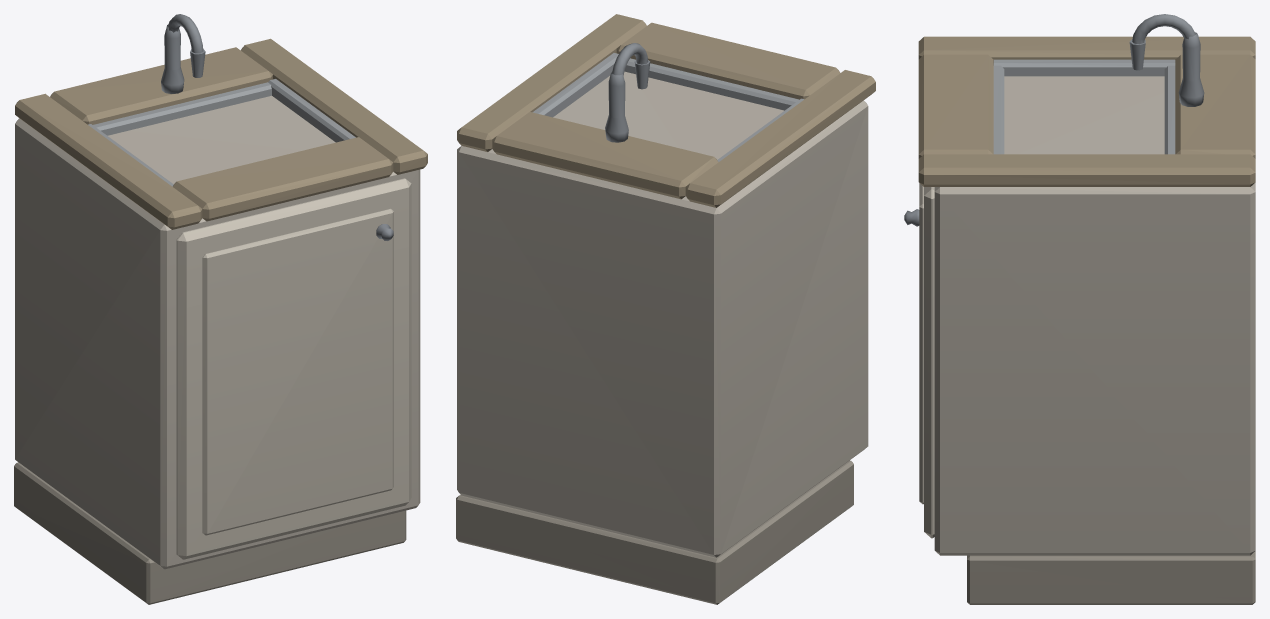
The model's file is sink_base_unit.glb.
3 renders of one model, left to right at view 1: azimuth 30°, elevation 25°; view 2: azimuth 150°, elevation 25°; view 3: azimuth 270°, elevation 25°, orthographic. The views are drawn at different scales.
Visible parts, largest first — view 1: sink_base_unit; view 2: sink_base_unit; view 3: sink_base_unit.
Part boxes in pixels (bbox=[...]): sink_base_unit: bbox=[14, 14, 427, 604]; sink_base_unit: bbox=[456, 14, 875, 604]; sink_base_unit: bbox=[904, 14, 1255, 604].
Bounding box in the file's own units: 0.6 × 1.08 × 0.657.
